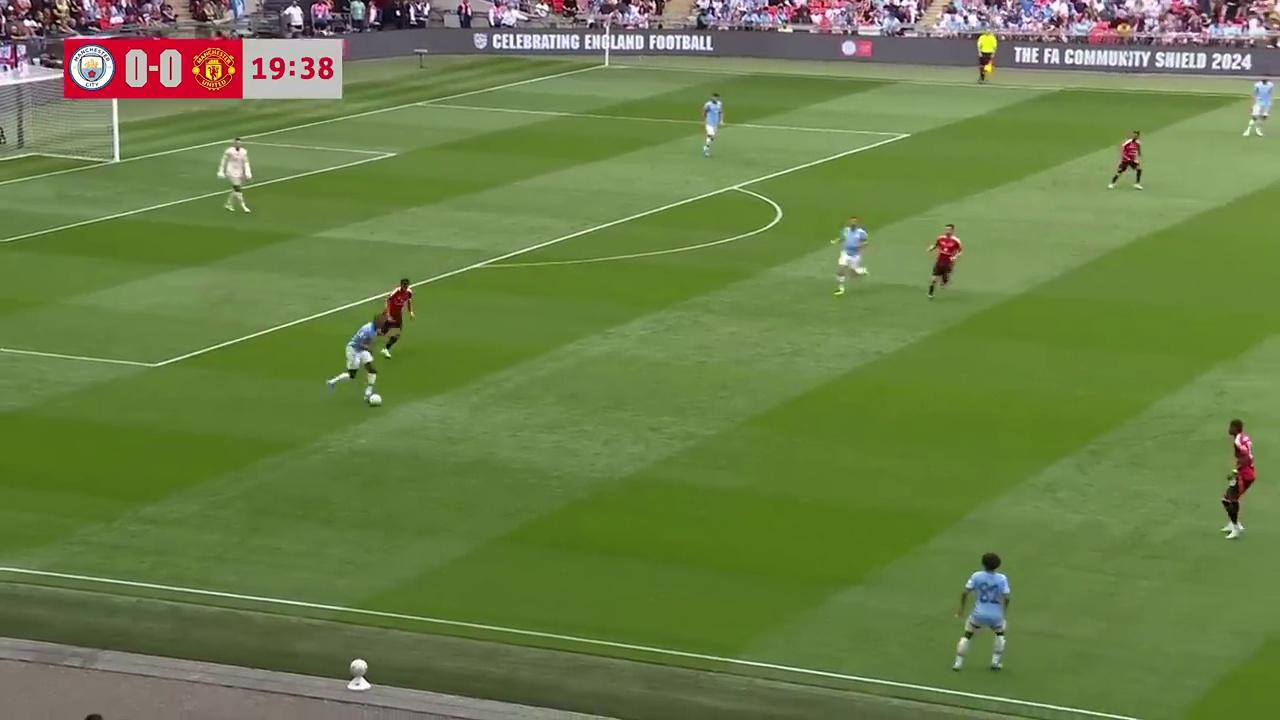ball: (369, 390, 382, 406)
player: (951, 551, 1010, 672), (326, 319, 383, 405), (1220, 417, 1256, 539), (376, 278, 414, 356), (833, 217, 869, 296), (926, 223, 963, 298), (218, 138, 252, 214), (1242, 69, 1279, 137), (1109, 131, 1144, 189), (701, 92, 724, 157)
referee: (976, 28, 997, 84)
